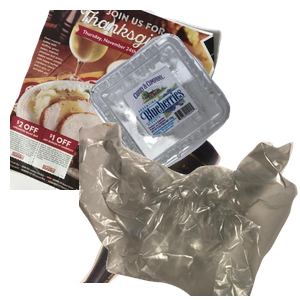glass: (66, 120, 279, 300)
paper: (10, 10, 224, 190)
plastic: (88, 31, 300, 198)
trash: (79, 120, 300, 300)
